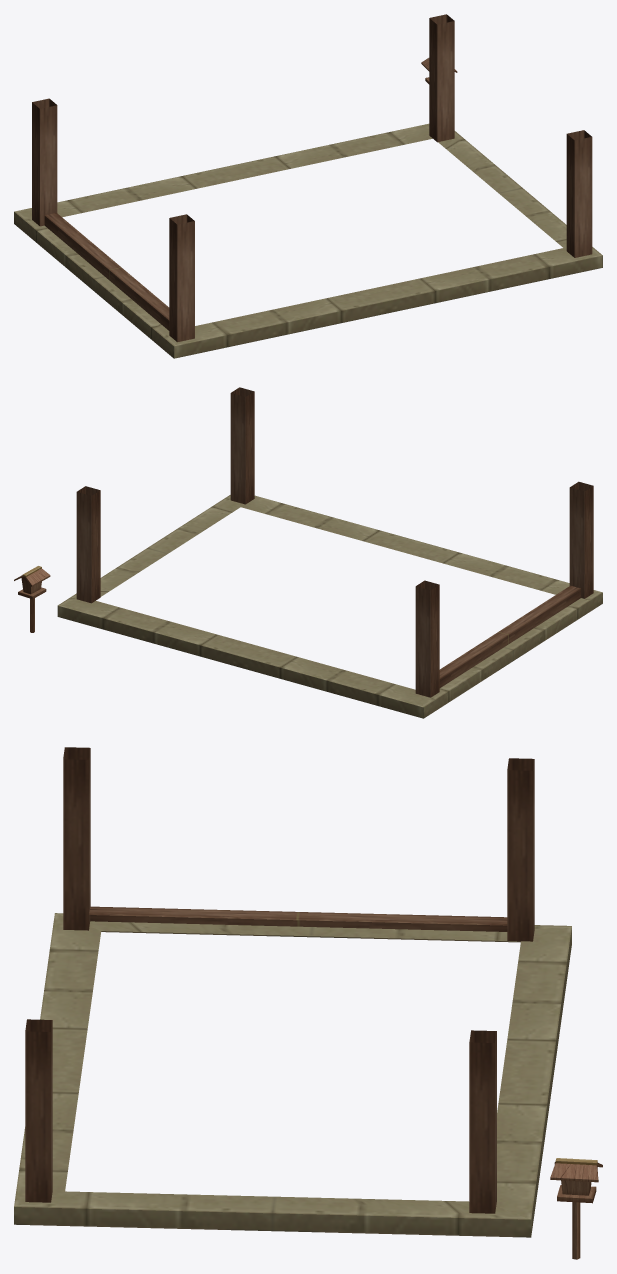
Rendered from Area_10_25.fbx.
3 renders of one model, top to bottom at view 1: azimuth 30°, elevation 25°; view 2: azimuth 150°, elevation 25°; view 3: azimuth 270°, elevation 25°, orthographic. The views are drawn at different scales.
Parts seen in each view (by area): view 1: Area_10_25; view 2: Area_10_25; view 3: Area_10_25.
Part boxes in pixels (x1,y1,x2,y2): Area_10_25: (14,14,602,358); Area_10_25: (14,387,602,718); Area_10_25: (14,747,602,1259).
Size of the model in its own units: 1580 by 456 by 1214.
